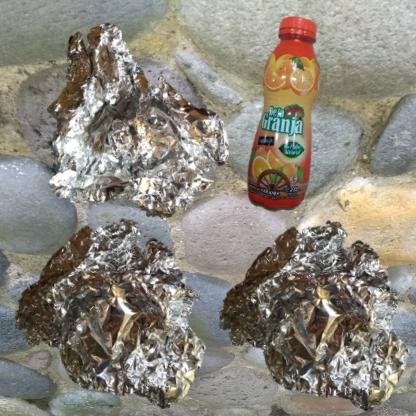aluminio: (10, 10, 278, 271), (213, 213, 416, 414), (10, 213, 213, 412)
botella: (213, 10, 401, 275)
